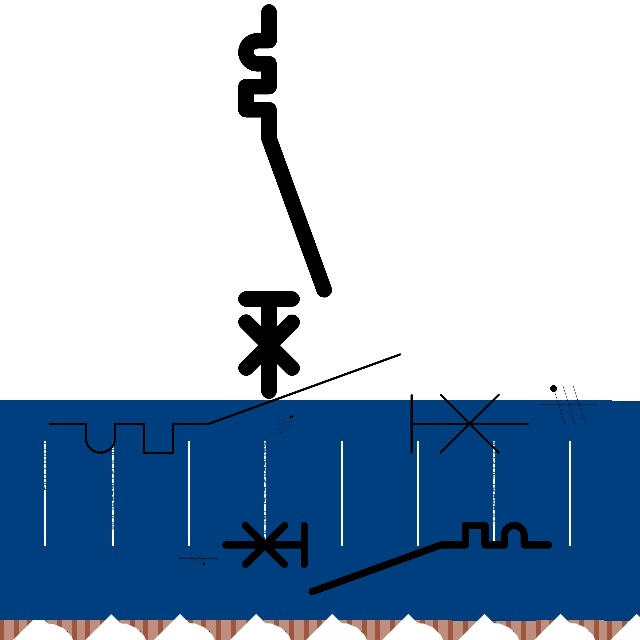interruptor_termomagnetico: (37, 342, 540, 465), (236, 2, 333, 401), (217, 517, 557, 600)
